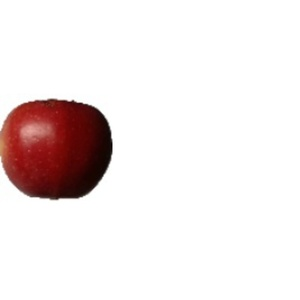maçã braeburn: (1, 99, 117, 200)
